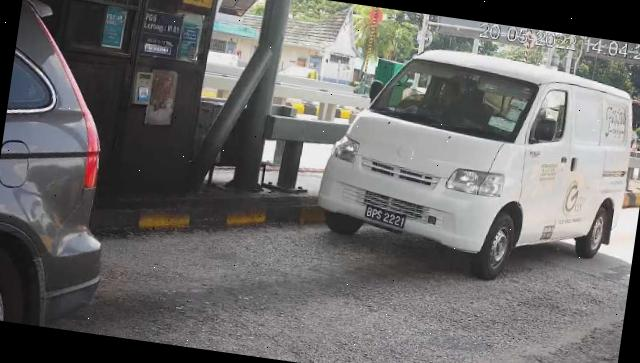License_Plate: (364, 203, 410, 232)
van: (310, 35, 640, 297)
